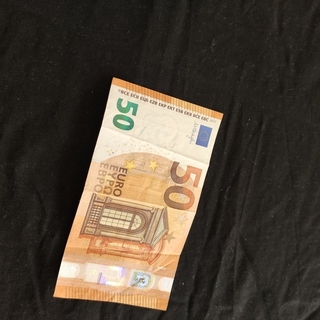50EUROFront: (52, 75, 223, 311)
